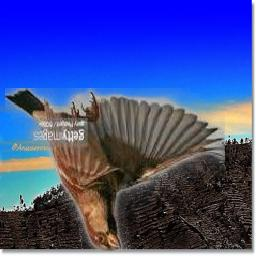Sparrow: (5, 89, 225, 252)
